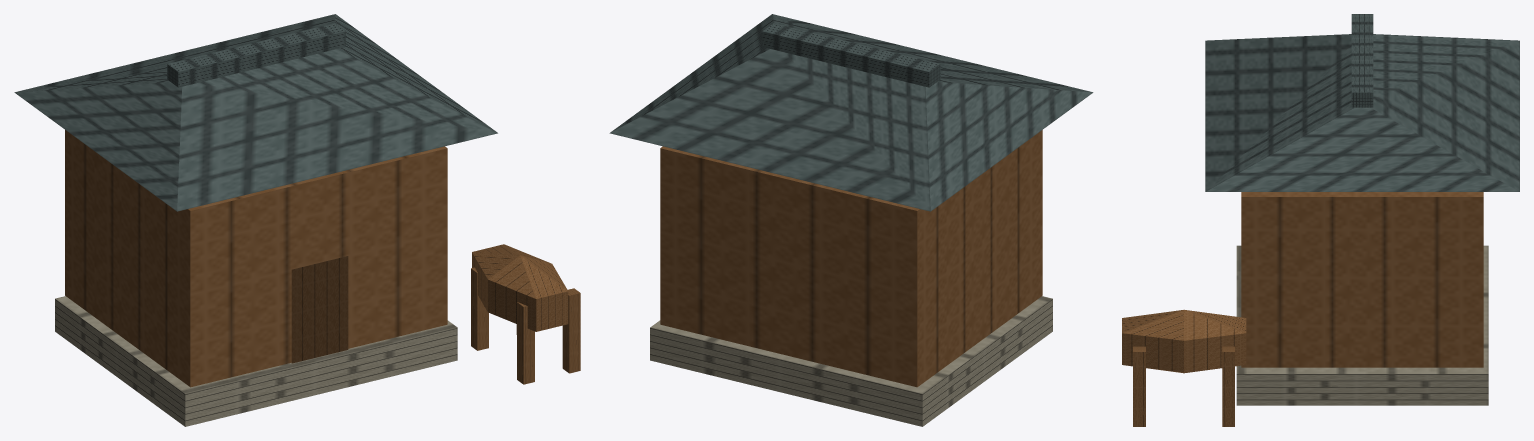
Rendered from domestic-STABLE-1-lod2.glb.
3 views of the same model, side by side, from view 1: azimuth 30°, elevation 25°; view 2: azimuth 150°, elevation 25°; view 3: azimuth 270°, elevation 25° (orthographic). The views are drawn at different scales.
Size of the model in its own units: 0.6413 by 0.499 by 0.6245.
1 material, 1 textured.
